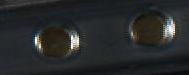joints: (124, 5, 178, 49), (31, 18, 80, 61)
